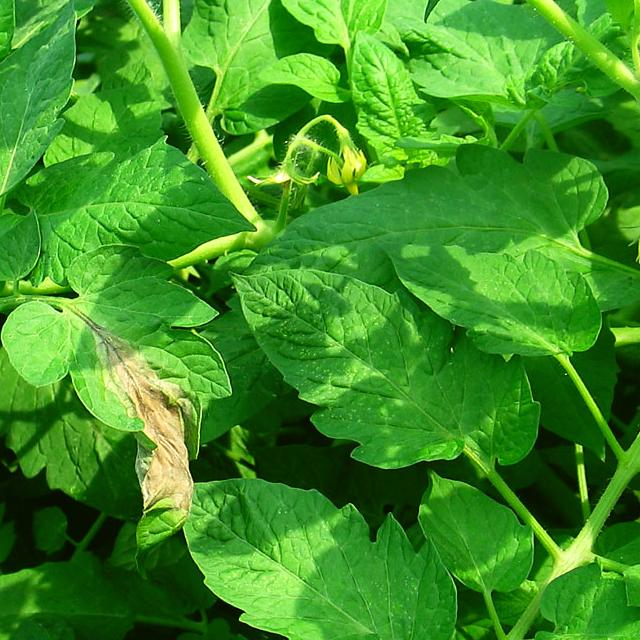Tomato leaf late blight: (232, 256, 537, 504), (13, 275, 228, 490), (176, 490, 465, 640), (403, 217, 593, 380), (0, 0, 100, 283), (411, 468, 541, 600), (0, 0, 10, 149)
